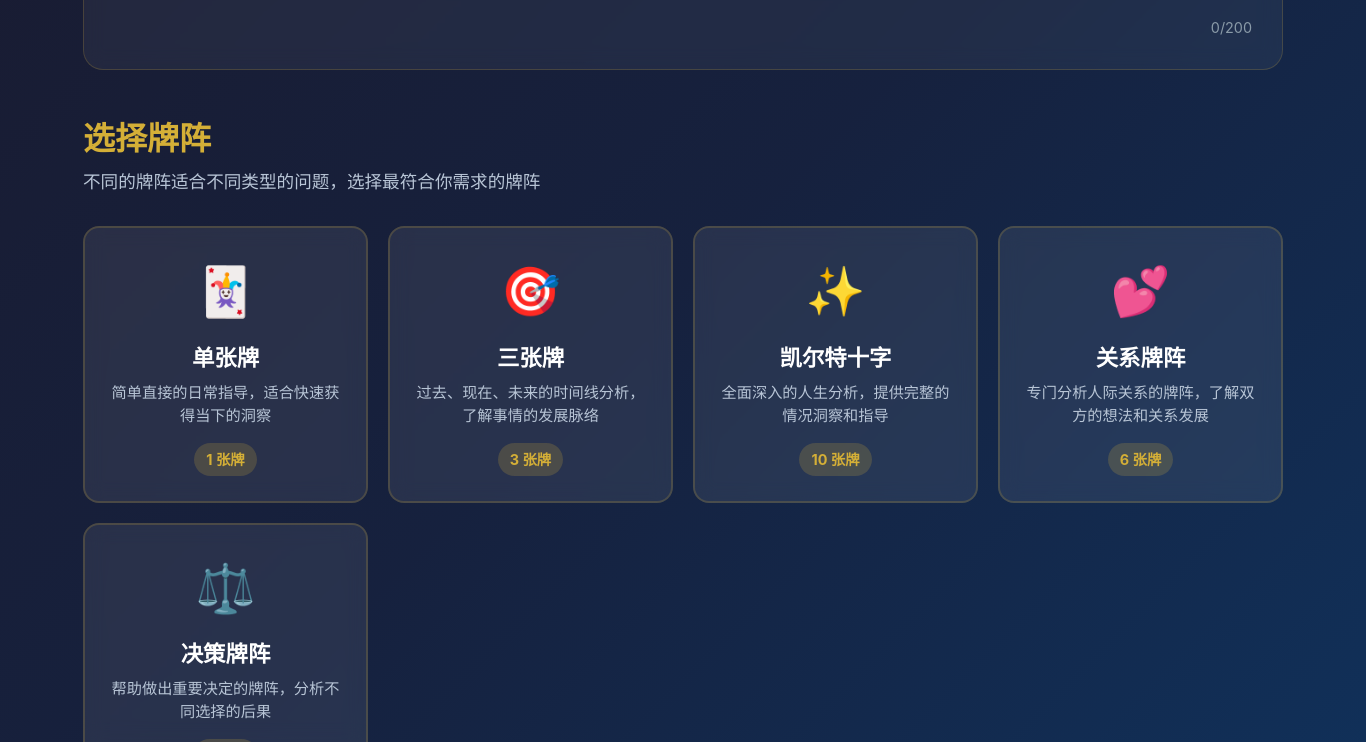
Test: 塔罗分析应用 - 集成测试 › 占卜流程 › 应该能够重新开始占卜
The width and height of the screenshot is (1366, 742).
(page scrolled)
Click the heading "单张牌" at (226, 358), box [192,344,259,371]
(page scrolled)
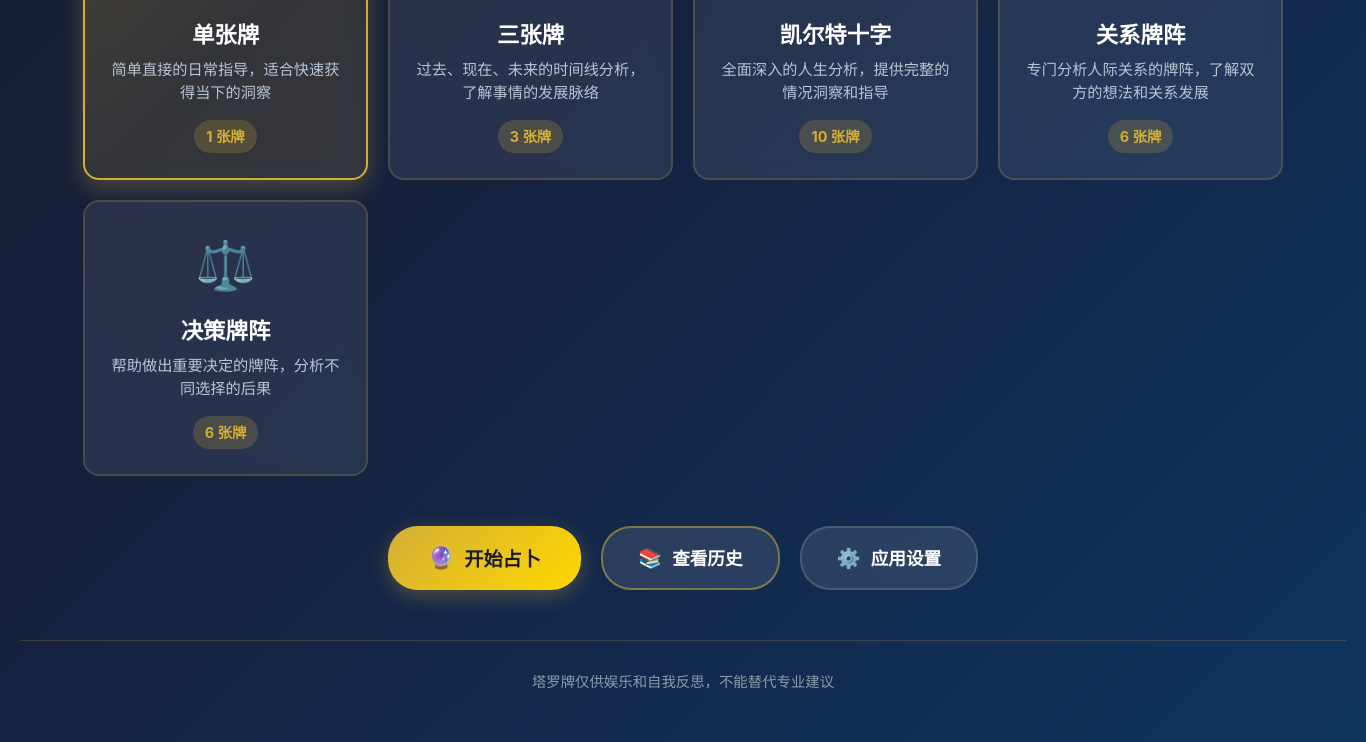
Click the button "🔮 开始占卜" at (484, 558), box [388,526,581,590]
(page scrolled)
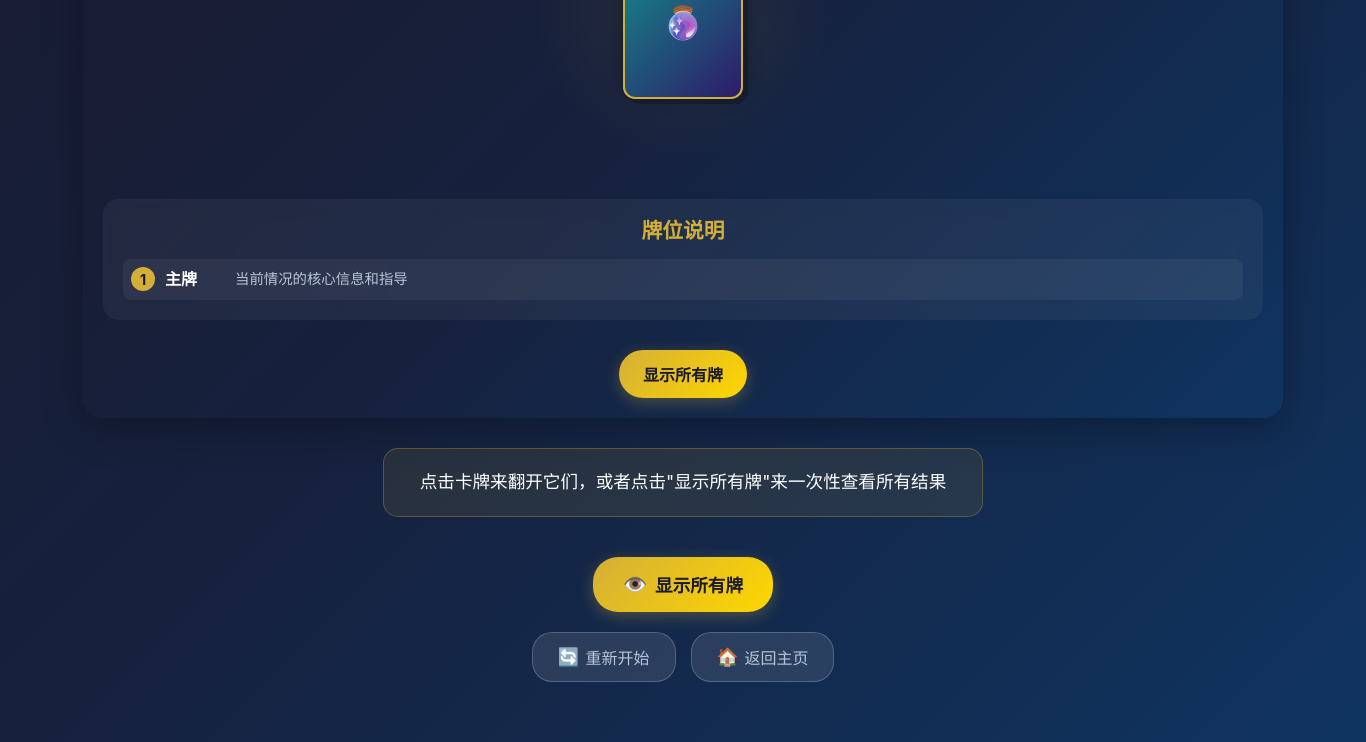
Click the button "🏠 返回主页" at (762, 657), box [690,632,834,682]
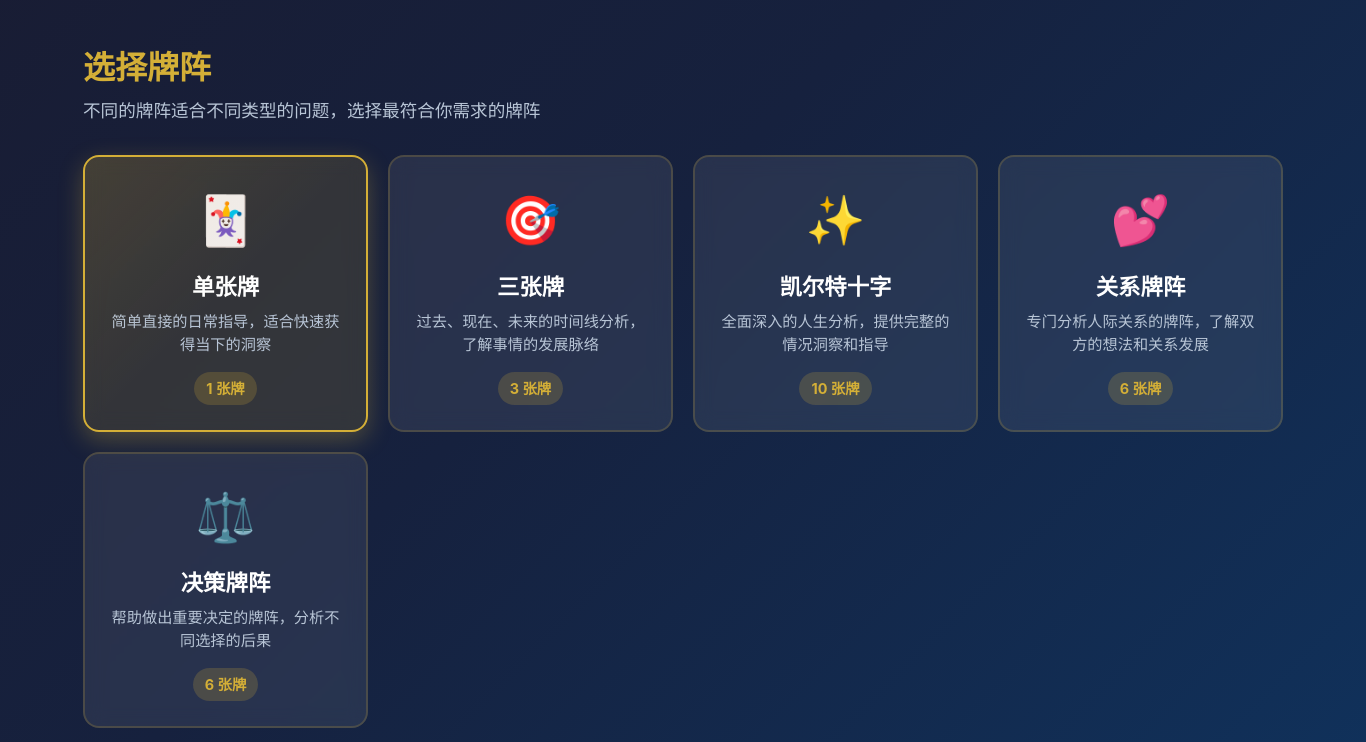
Expected: the heading "选择牌阵" is shown, [83,48,211,87]
